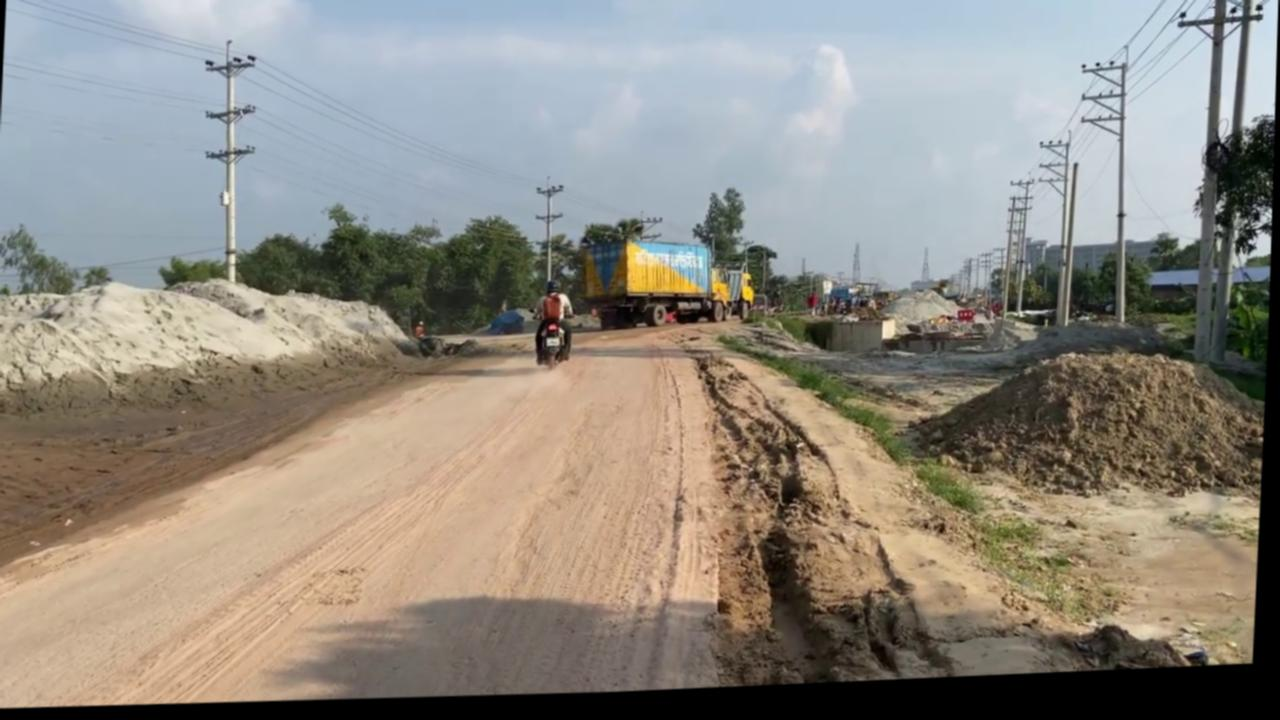Light-pole: (195, 39, 261, 287)
Motorcycle: (532, 313, 575, 376)
Obstacle: (803, 320, 898, 364), (898, 337, 955, 363)
Pole: (1209, 0, 1265, 376), (1071, 61, 1138, 336)
Rickshaw: (700, 323, 1268, 695)
Traffic-sign: (1191, 120, 1276, 272), (692, 192, 747, 271)
Tree: (570, 236, 755, 338), (804, 247, 903, 363), (819, 248, 889, 326), (711, 270, 757, 329), (821, 284, 884, 326)
